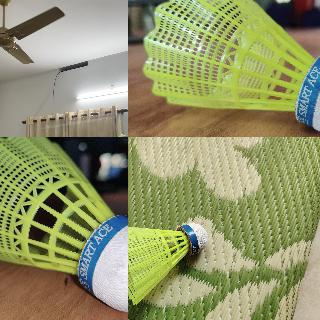shuttlecock: (141, 0, 319, 135), (0, 137, 127, 312), (128, 222, 208, 306), (117, 134, 127, 136)
